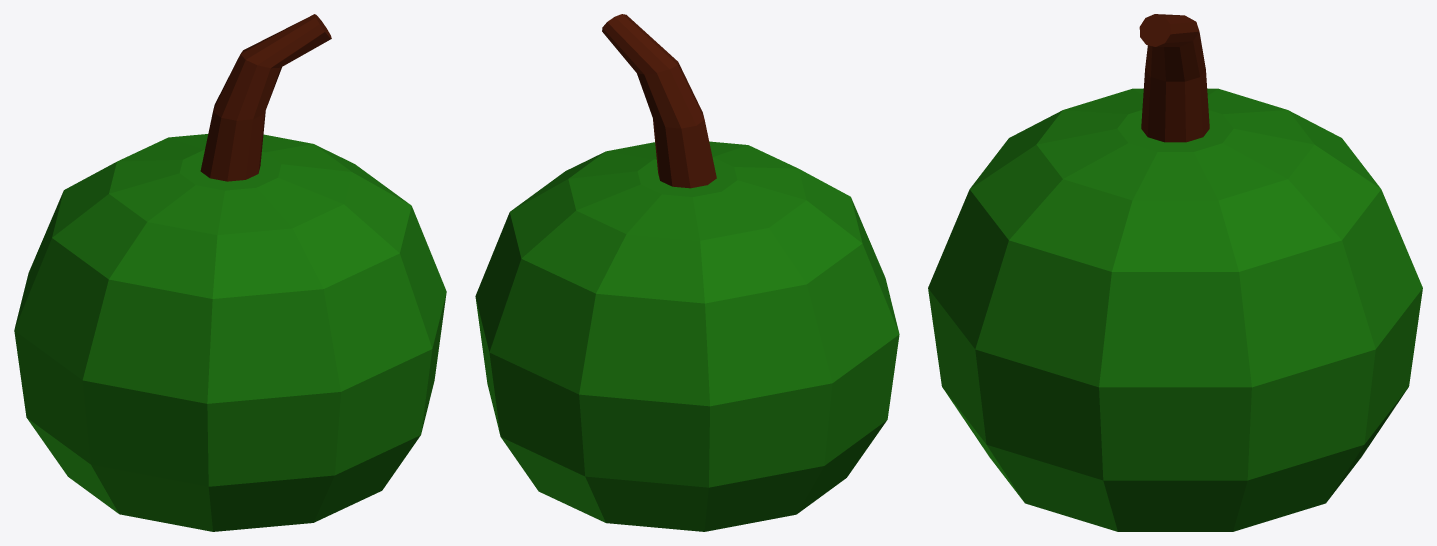
Rendered from kleine appel.fbx.
3 views of the same model, side by side, from view 1: azimuth 30°, elevation 25°; view 2: azimuth 150°, elevation 25°; view 3: azimuth 270°, elevation 25° (orthographic). The views are drawn at different scales.
Parts seen in each view (by area): view 1: Cylinder; view 2: Cylinder; view 3: Cylinder.
Boxes of the visible parts, left/top/right/bottom form: Cylinder: left=14, top=14, right=446, bottom=531; Cylinder: left=475, top=14, right=899, bottom=531; Cylinder: left=928, top=14, right=1422, bottom=531.
Size of the model in its own units: 0.0797 by 0.0972 by 0.0838.
